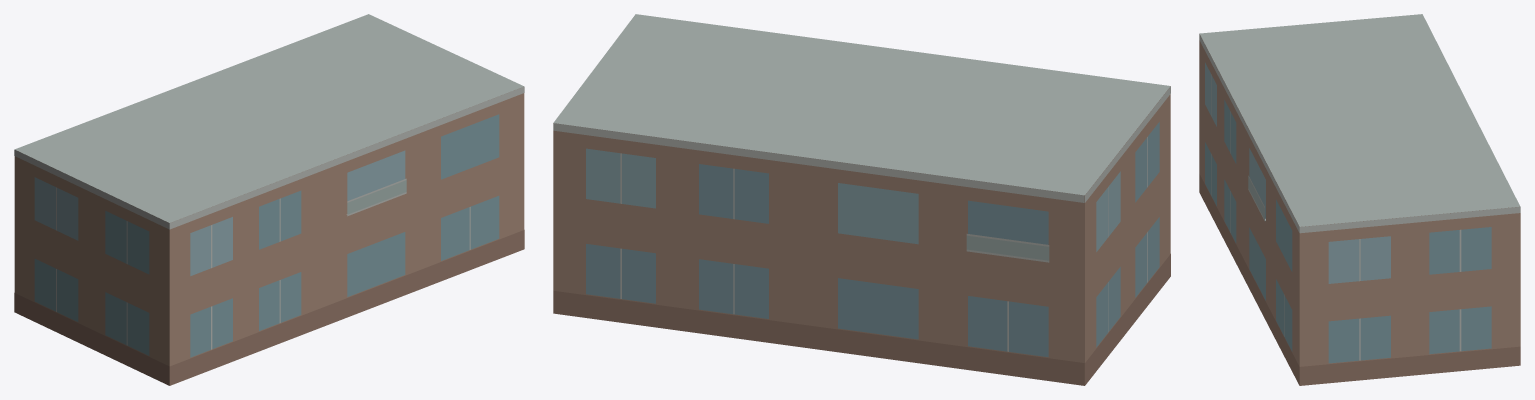
Rendered from survey-upis-32699341.glb.
3 views of the same model, side by side, from view 1: azimuth 30°, elevation 25°; view 2: azimuth 150°, elevation 25°; view 3: azimuth 270°, elevation 25° (orthographic). The views are drawn at different scales.
Parts seen in each view (by area): view 1: survey-upis-32699341.tmp; view 2: survey-upis-32699341.tmp; view 3: survey-upis-32699341.tmp.
Boxes of the visible parts, x1,y1,x2,y2 form: survey-upis-32699341.tmp: (14, 14, 524, 385); survey-upis-32699341.tmp: (553, 14, 1170, 385); survey-upis-32699341.tmp: (1199, 14, 1520, 385).
Bounding box in the file's own units: 17.54 × 6.1 × 11.18.
